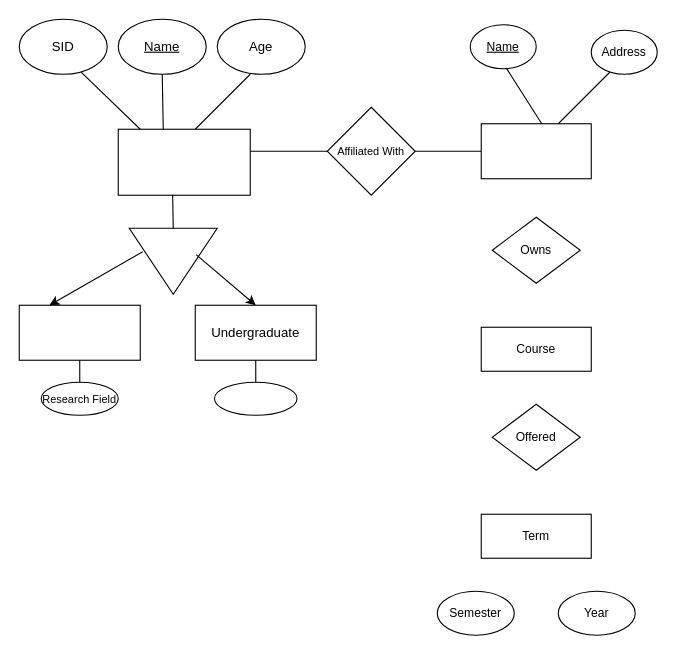
Image size: 677x655. Some labels were removed from this diagram. The shapes that lost their labels are listed below. From the top down, each one's centre as x and y in pixels, then its label:
At point 183,161: "Student".
At point 535,151: "Departments".
At point 172,260: "isA".
At point 79,332: "Graduate".
At point 255,398: "Concentration".
